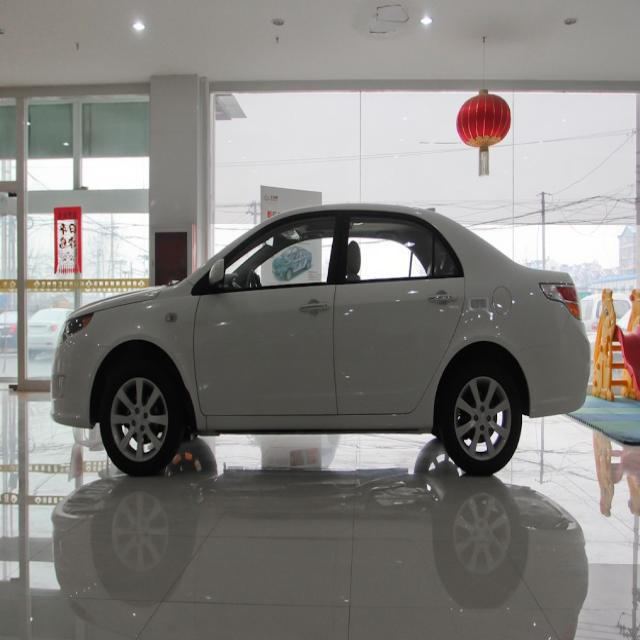back_left_side_light: (538, 282, 586, 322)
door: (334, 212, 466, 416)
front_bumper: (50, 338, 109, 431)
front_left_side_door: (191, 208, 344, 420)
front_left_side_light: (56, 310, 95, 346)
front_left_side_mirror: (206, 258, 227, 288)
rear_bumper: (517, 313, 592, 420)
wheel: (100, 358, 182, 476), (443, 360, 521, 476)
